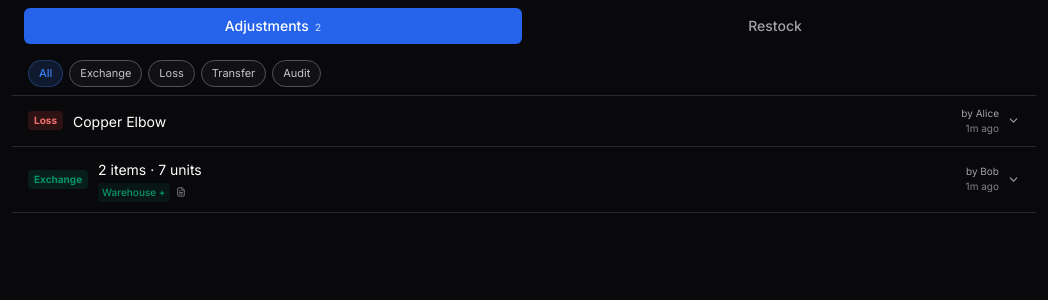
Test: StockHistorySection › expands row to show before→after delta
Expected: the text "5 → 3" is not shown
Click the text "Copper Elbow" at (120, 121), box [73, 112, 166, 130]
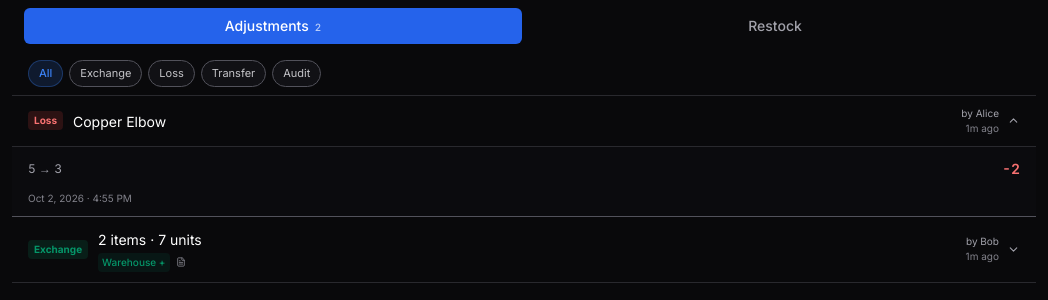
Now the text "5 → 3" is shown, box [28, 160, 62, 176]
Now the text "-2" is shown, box [1002, 160, 1020, 176]
